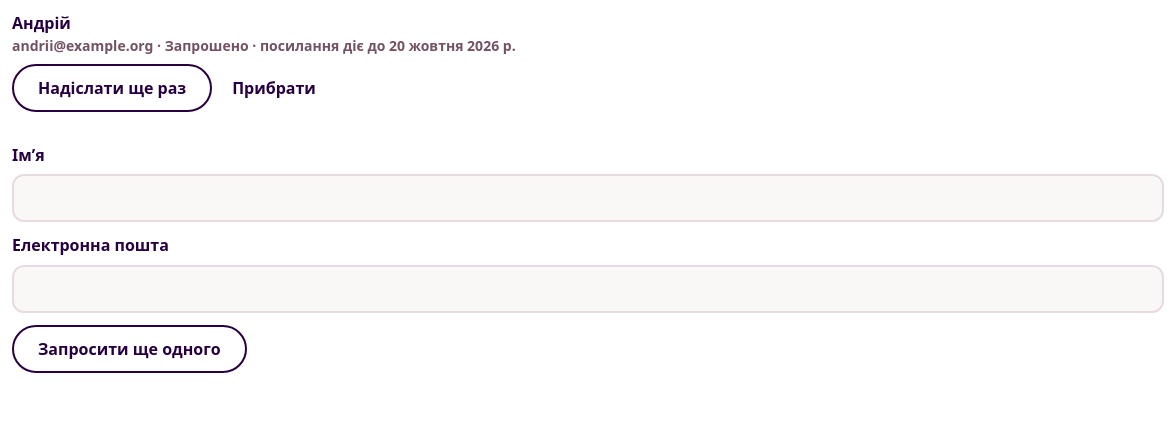
Test: resend shows what became of the email › an address that meanwhile has a role elsewhere: says which
Click the button "Надіслати ще раз" at (112,88), box [12, 64, 212, 112]
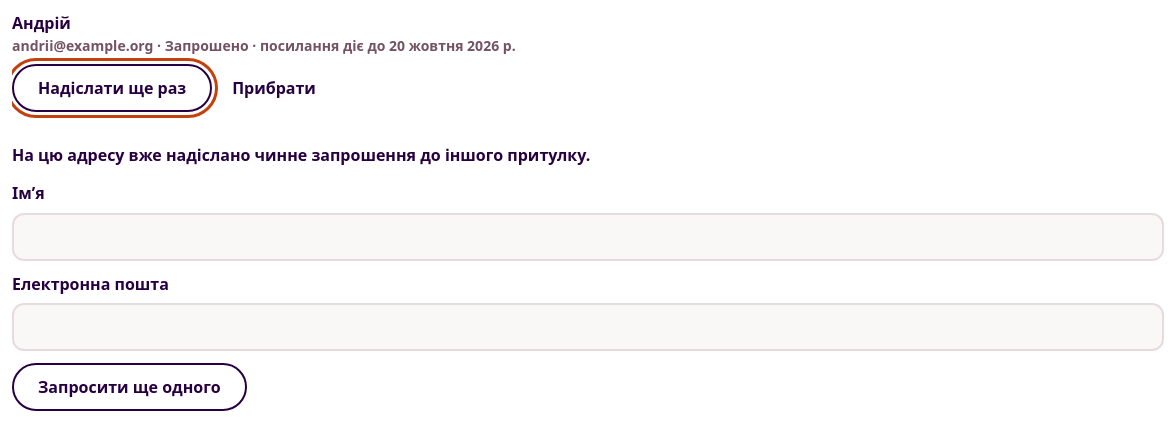
Now the message reads "На цю адресу вже надіслано чинне запрошення до іншого притулку.", box [12, 144, 590, 166]
